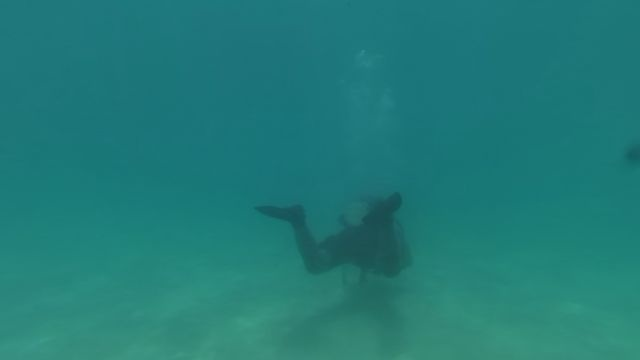Diver: (247, 183, 428, 294)
